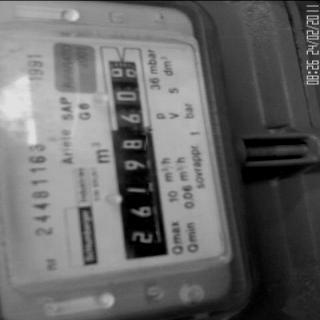1: (114, 90, 138, 103)
2: (126, 184, 149, 195)
6: (129, 229, 156, 244)
7: (120, 112, 145, 125), (128, 205, 152, 218)
9: (120, 135, 146, 150)
:: (123, 157, 148, 173)
